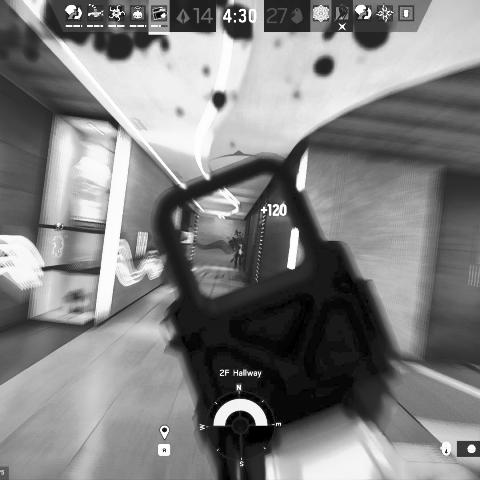Character: (233, 240, 245, 272)
Friend_label: (50, 222, 70, 239)
